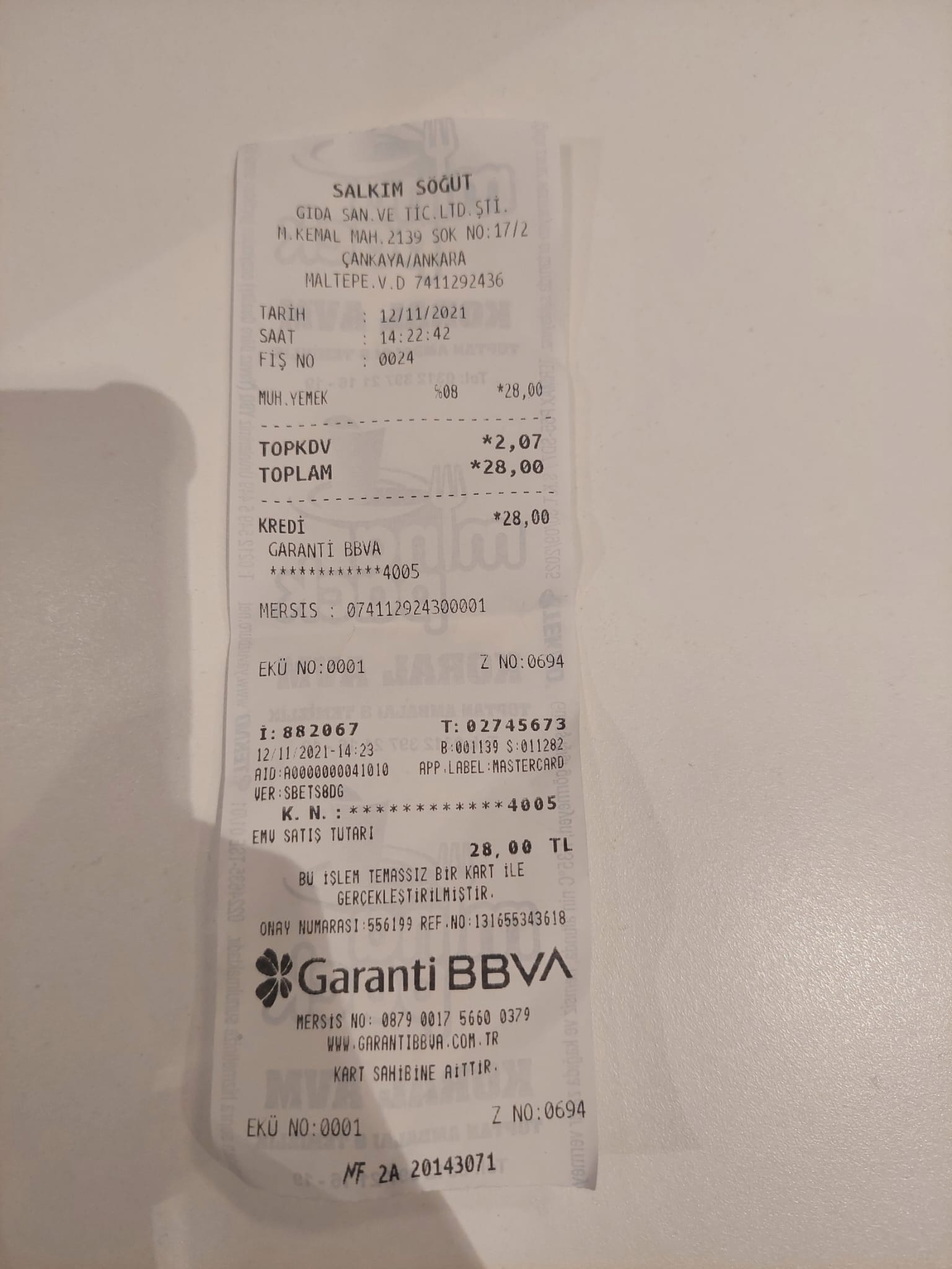date: (369, 298, 471, 325)
price: (480, 454, 549, 482)
workplace: (270, 168, 538, 272)
